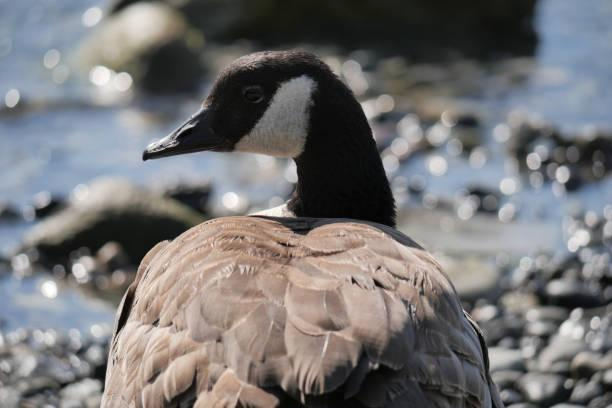Canadian-Goose: (111, 51, 498, 408)
